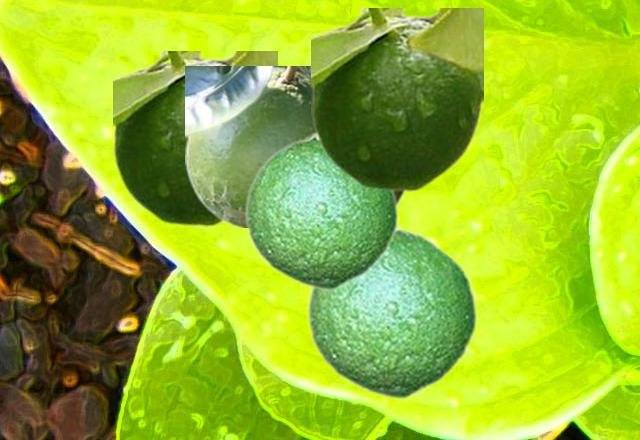dalandan: (311, 8, 482, 190), (305, 221, 477, 399), (113, 51, 276, 225), (243, 130, 398, 290), (185, 66, 313, 226)
